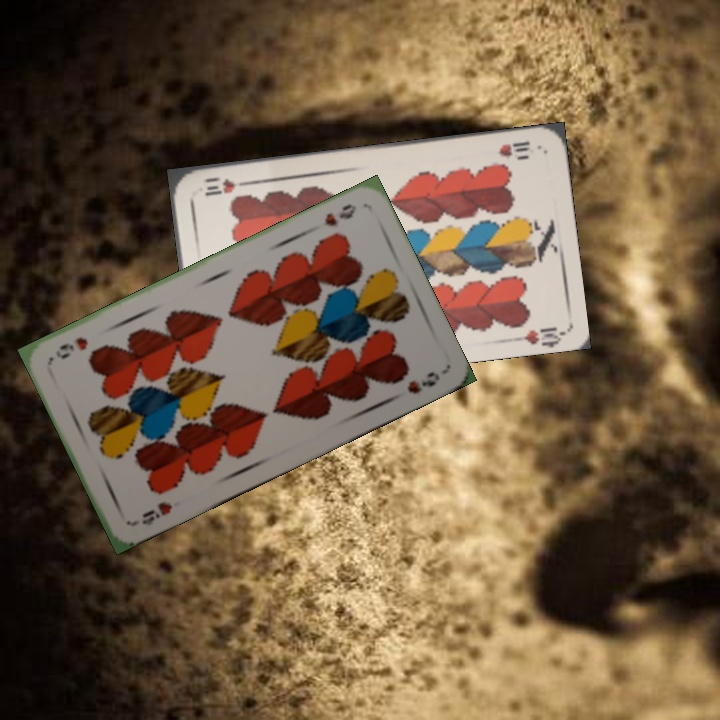H10: (494, 137, 536, 161)
H9: (129, 498, 176, 529), (320, 199, 359, 230)
